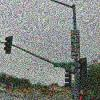traffic lights: (4, 35, 14, 55), (64, 69, 73, 89)
